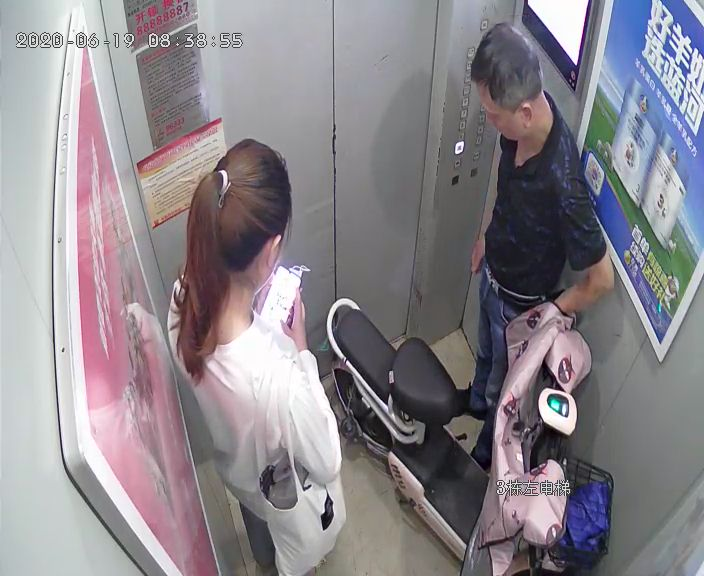Electric-bicycle: (327, 291, 617, 571)
